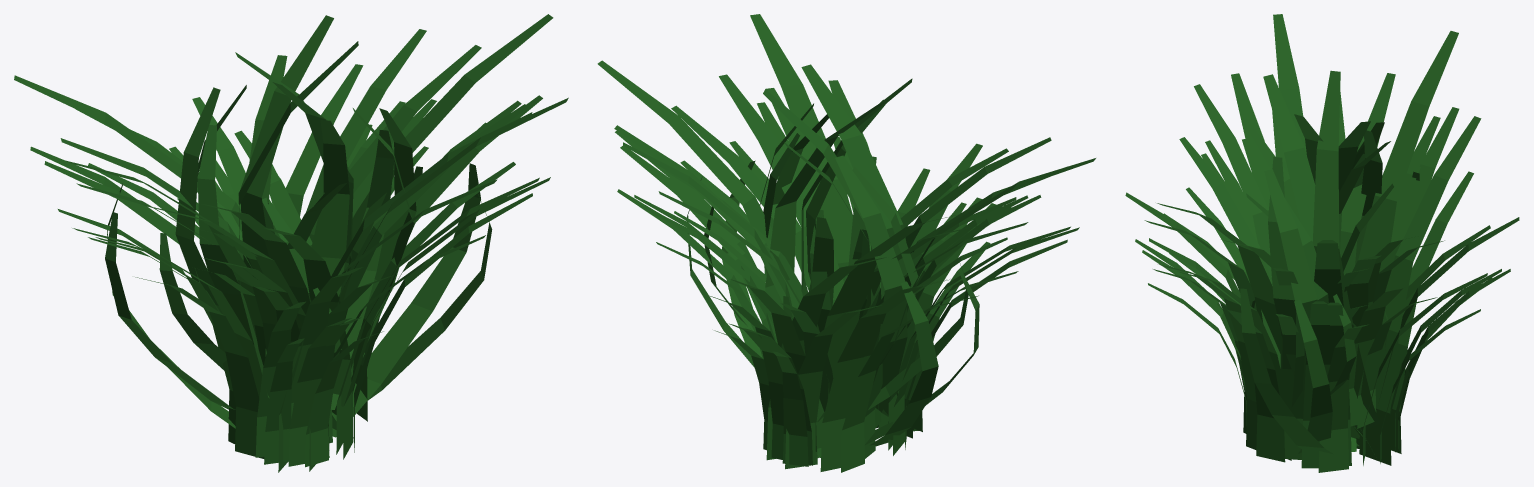
Rendered from Swamp_Bush_Big.fbx.
The picture shows the model from 3 angles, left to right: view 1: azimuth 30°, elevation 25°; view 2: azimuth 150°, elevation 25°; view 3: azimuth 270°, elevation 25°; orthographic projection. The views are drawn at different scales.
Visible parts, largest first — view 1: Plane.011; view 2: Plane.011; view 3: Plane.011.
Boxes of the visible parts, x1,y1,x2,y2 form: Plane.011: [14, 14, 568, 472]; Plane.011: [597, 14, 1095, 472]; Plane.011: [1125, 14, 1519, 472].
Bounding box in the file's own units: 113 × 82.56 × 82.96.
